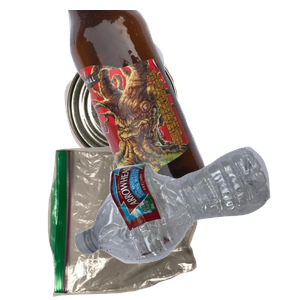glass: (65, 10, 300, 190)
metal: (62, 43, 232, 198)
plastic: (72, 144, 300, 300)
trash: (45, 144, 235, 300)
